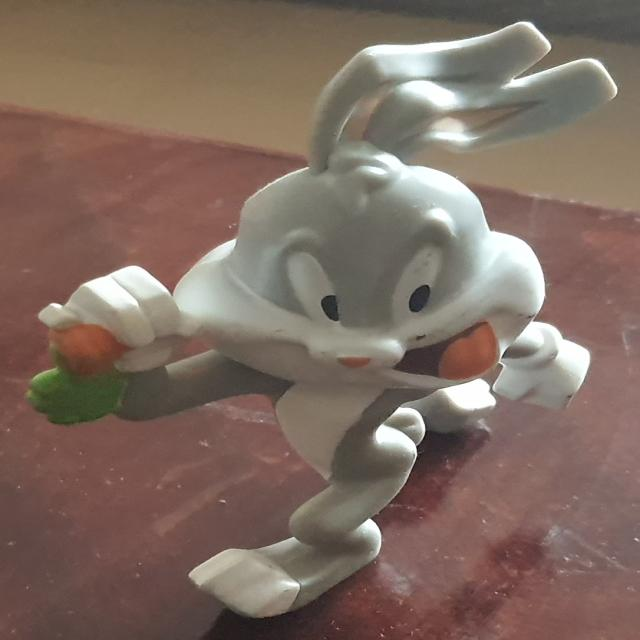Rabbit: (26, 21, 618, 619)
